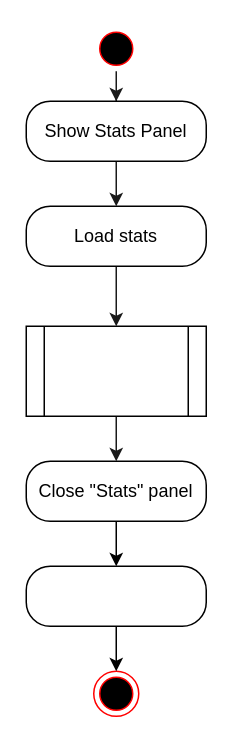
Some shapes in this 233 by 743 pixel diagram are drawn without their labels. Here are the shapes that lost their labels. From the top down, the centre of each, then its label:
(x=115, y=370): "Back" button was clicked
(x=115, y=595): Show "Main Menu" panel
